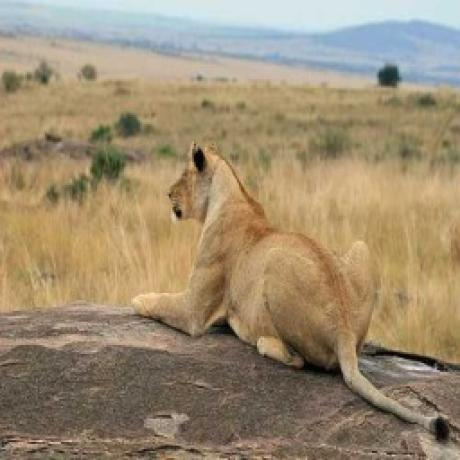Lion: (131, 136, 454, 452)
